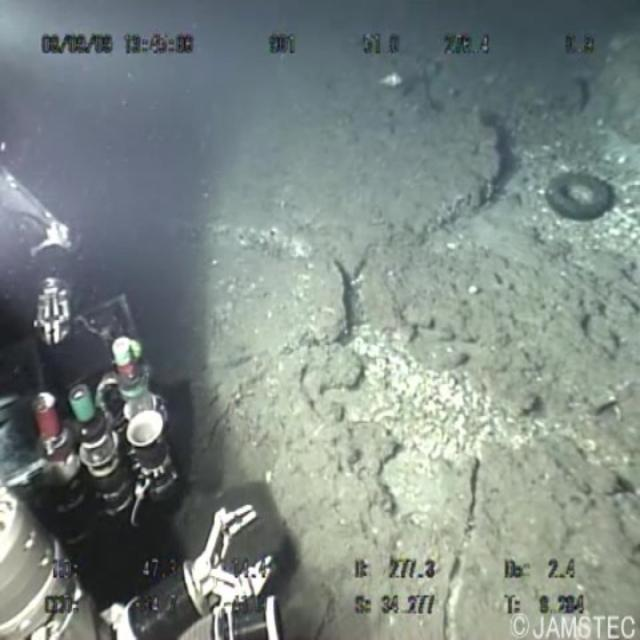Rubber: (536, 152, 640, 264)
